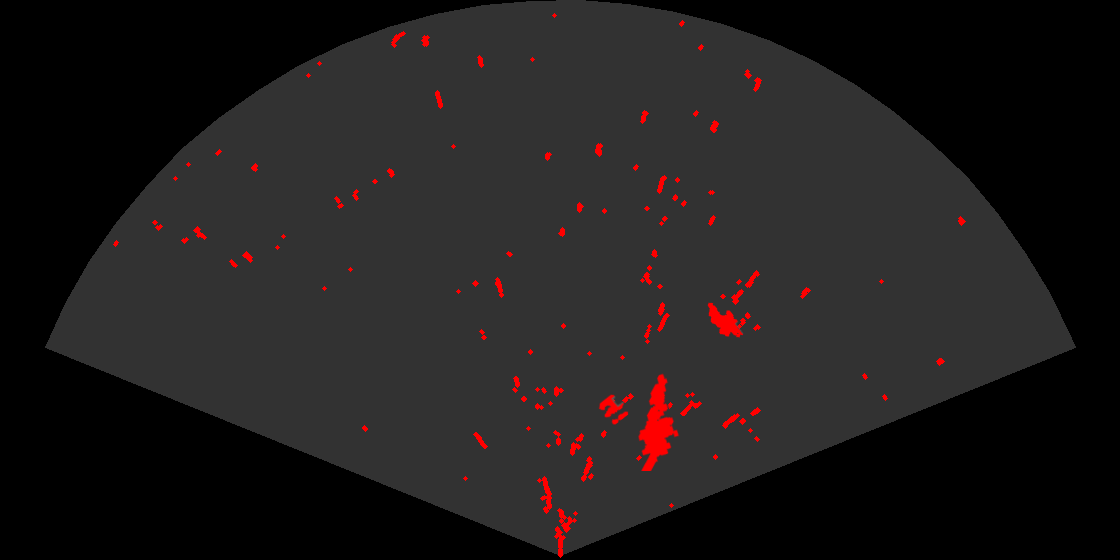AUV: (706, 301, 745, 339)
ball: (597, 393, 630, 426)
frogman: (637, 372, 681, 471)
